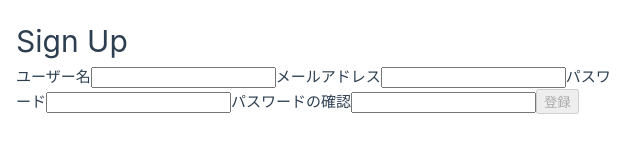
SignUpPage › インタラクション › 登録時にサーバーからエラーが返された場合、エラーメッセージを表示する
Type "Error1" into the field labelled "ユーザー名". click: (183, 77)
box: [91,66,276,88]
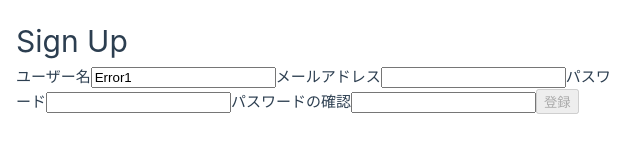
Type "user@example.com" into the field labelled "メールアドレス". click: (473, 77)
box: [381,66,566,88]
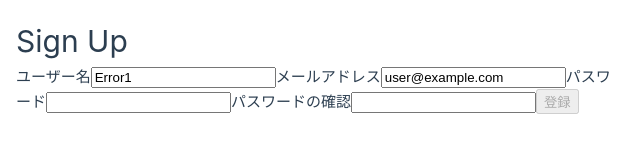
Type "P4ssw0rd" into the password field labelled "パスワード". click: (138, 102)
box: [46,92,231,112]
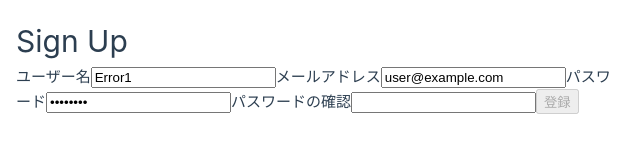
Type "P4ssw0rd" into the password field labelled "パスワードの確認". click: (444, 102)
box: [351,92,536,112]
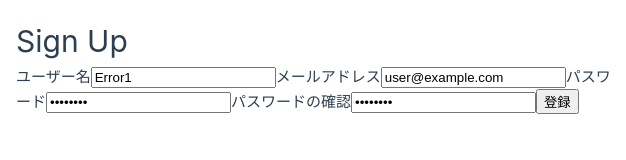
Click the button "登録". click: (557, 101)
box: [536,88,579,114]
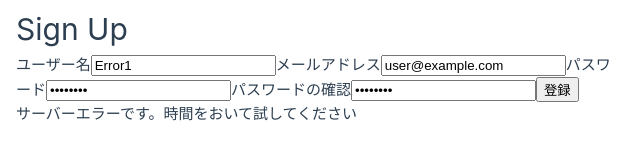
Expected: the text "サーバーエラーです。時間をおいて試してください" is shown, [16,104,357,122]
